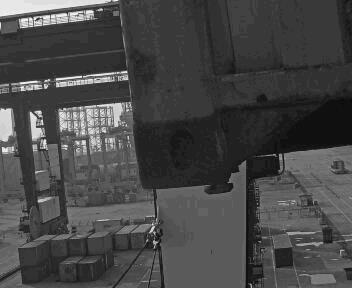twist_lock_1: (167, 168, 245, 204)
